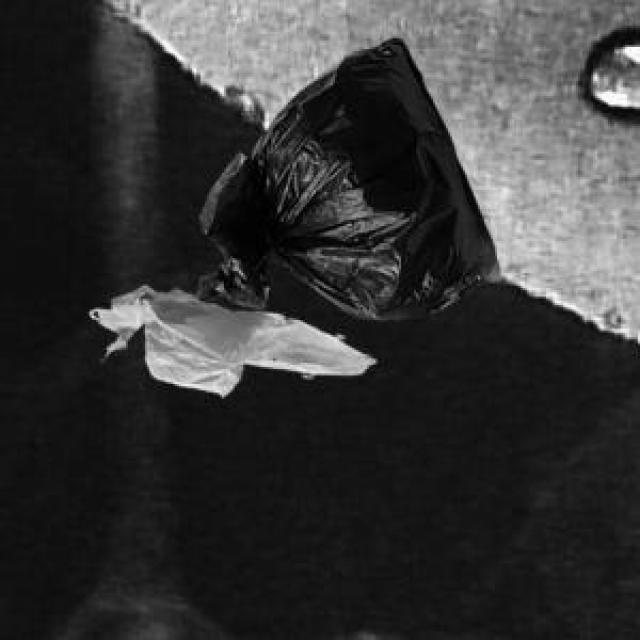miscellaneous trash: (192, 34, 497, 316)
